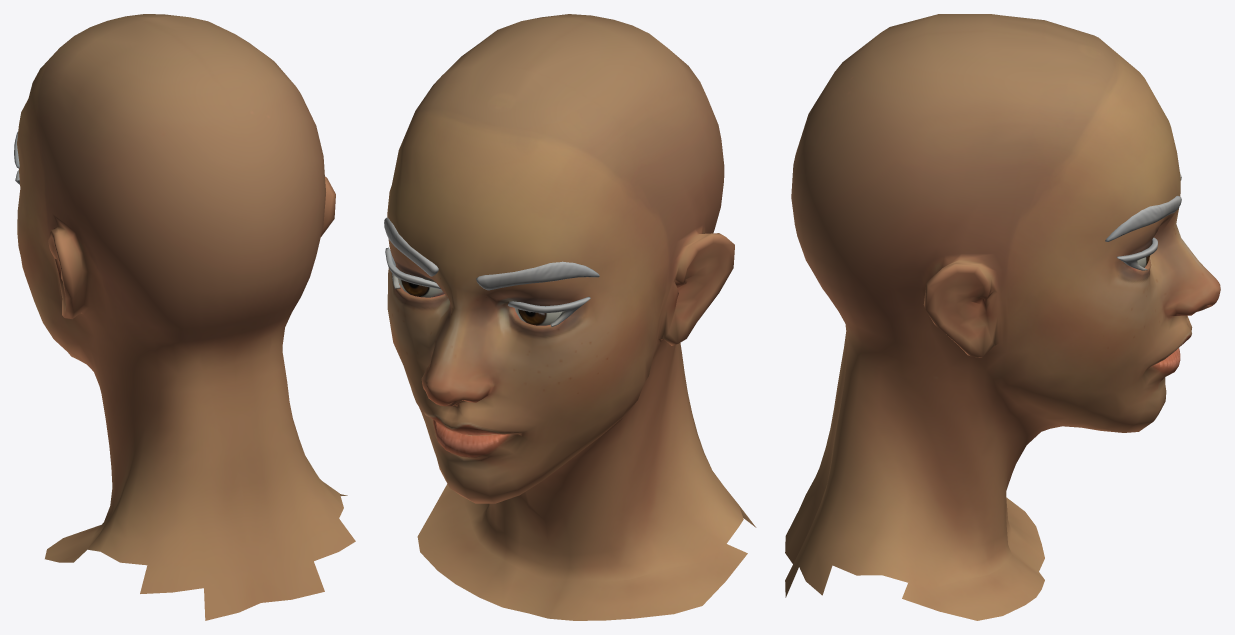
The model's file is Superhero_Female_Head.fbx.
3 renders of one model, left to right at view 1: azimuth 30°, elevation 25°; view 2: azimuth 150°, elevation 25°; view 3: azimuth 270°, elevation 25°, orthographic. The views are drawn at different scales.
Visible parts, largest first — view 1: Superhero_Female_Head; view 2: Superhero_Female_Head; view 3: Superhero_Female_Head.
Boxes of the visible parts, x1,y1,x2,y2 form: Superhero_Female_Head: (14, 14, 355, 620); Superhero_Female_Head: (384, 14, 756, 620); Superhero_Female_Head: (785, 14, 1220, 620).
Bounding box in the file's own units: 0.1778 × 0.3128 × 0.228.
